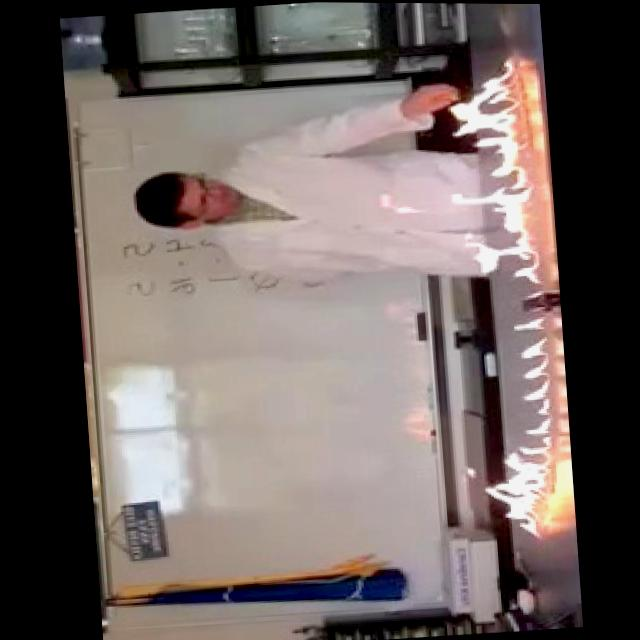helmet: (413, 47, 573, 544)
